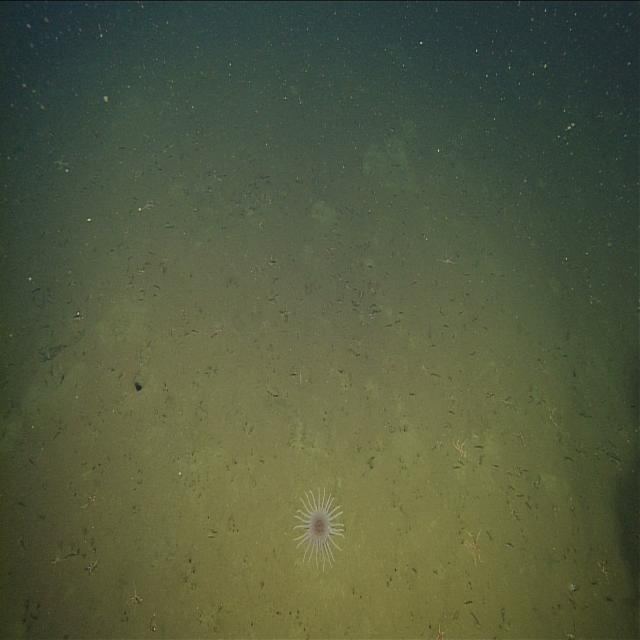Brittle Star: (462, 522, 486, 568), (128, 584, 143, 618), (451, 434, 469, 459), (440, 248, 456, 271), (212, 319, 222, 342)
Not Brittle Star: (292, 486, 346, 568)
